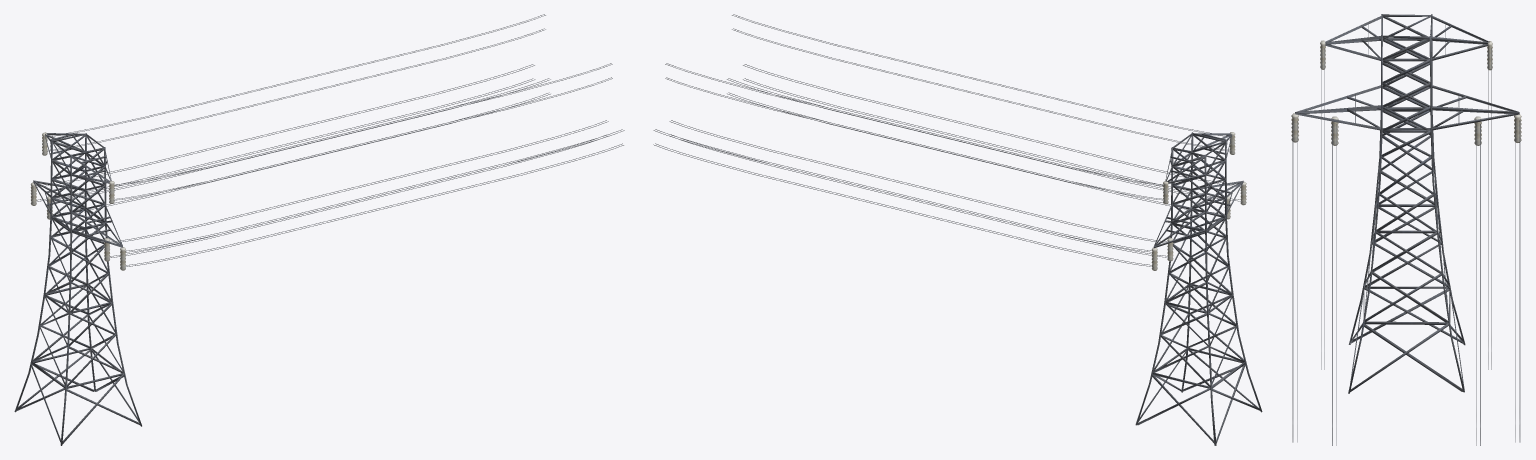
The model's file is electric_pylon.fbx.
The picture shows the model from 3 angles, left to right: view 1: azimuth 30°, elevation 25°; view 2: azimuth 150°, elevation 25°; view 3: azimuth 270°, elevation 25°; orthographic projection. The views are drawn at different scales.
Parts seen in each view (by area): view 1: Mesh; view 2: Mesh; view 3: Mesh.
Part boxes in pixels (bbox=[...]): Mesh: bbox=[14, 14, 624, 445]; Mesh: bbox=[653, 14, 1262, 445]; Mesh: bbox=[1291, 14, 1521, 445].
Size of the model in its own units: 4329 by 2107 by 1279.
